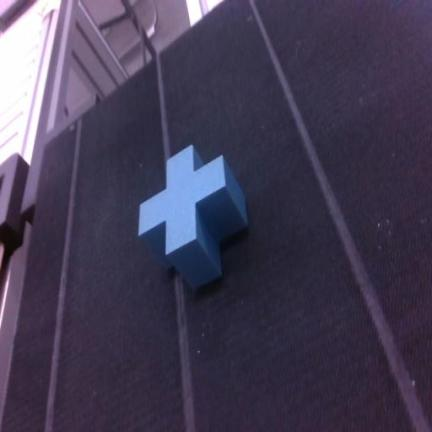cross: (139, 146, 247, 287)
